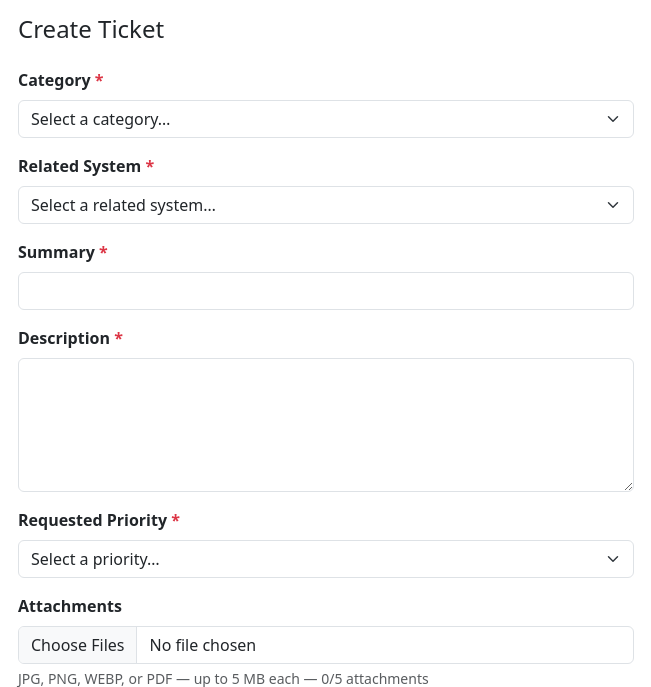
Test: CreateTicket › AC-01: submits valid data and shows the generated ticket number on success
Select "Hardware" in the dropdown labelled "Category *" at point(326, 119), box x1=18 y1=100 x2=634 y2=138
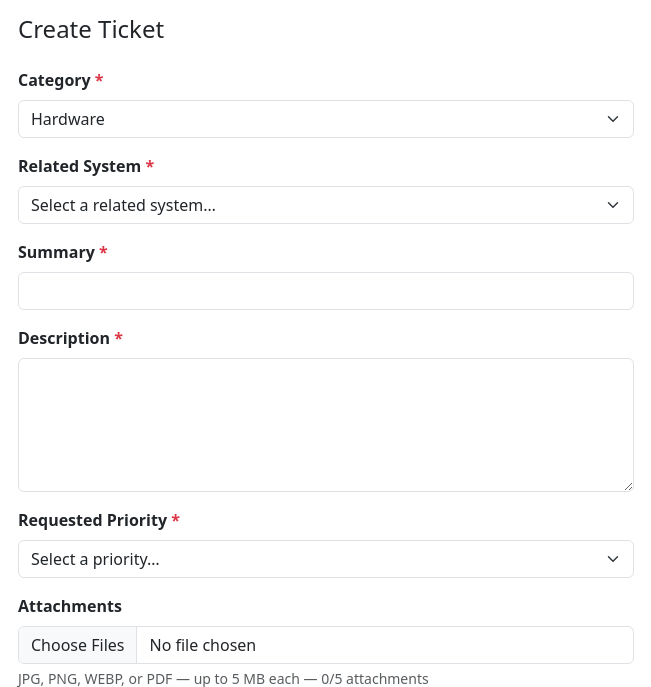
Select "Corporate Laptop" in the dropdown labelled "Related System *" at point(326, 205), box x1=18 y1=186 x2=634 y2=224
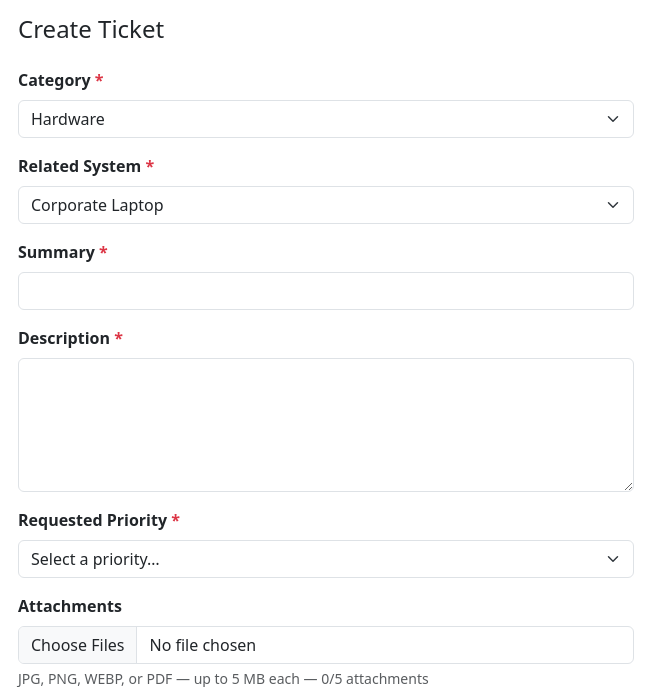
Type "Laptop battery drains quickly" into the field labelled "Summary *".
click(326, 291); type("Laptop battery drains quickly")  # box x1=18 y1=272 x2=634 y2=310
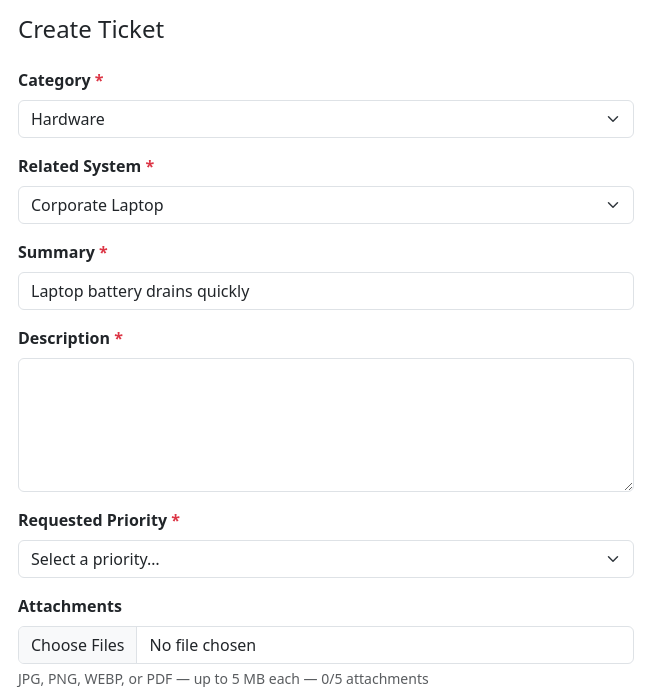
Type "Battery drains much faster than usual." into the text box labelled "Description *".
click(326, 425); type("Battery drains much faster than usual.")  # box x1=18 y1=358 x2=634 y2=492
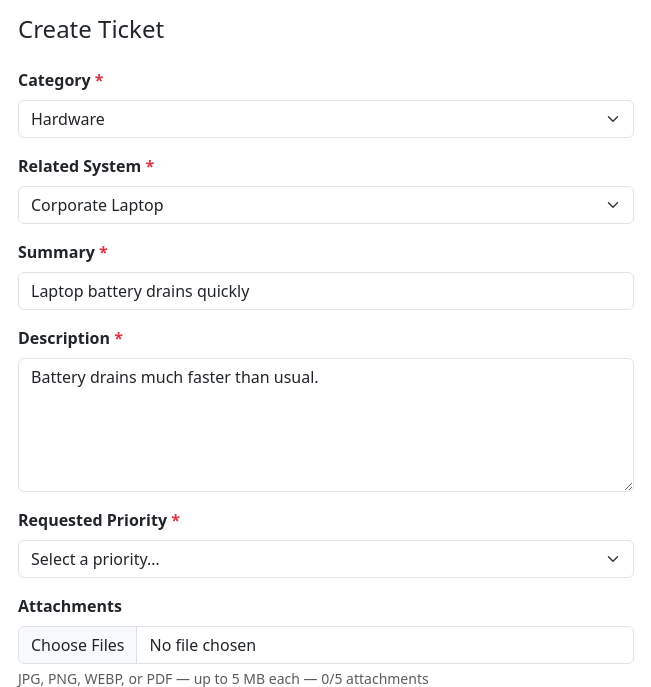
Select "Medium" in the dropdown labelled "Requested Priority *" at point(326, 559), box x1=18 y1=540 x2=634 y2=578
(page scrolled)
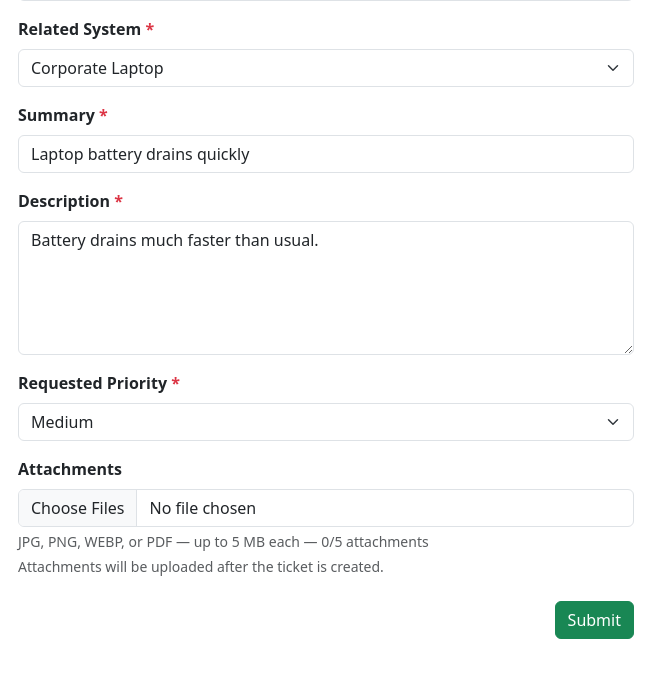
Click the button "Submit".
click(594, 620)  # box x1=555 y1=601 x2=634 y2=639
(page scrolled)
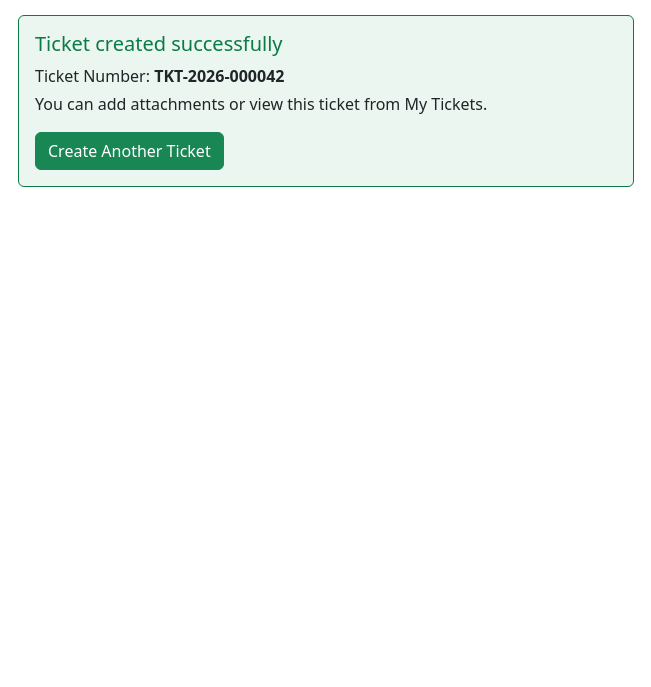
expect the text "TKT-2026-000042" is shown: met, box x1=154 y1=65 x2=284 y2=87
